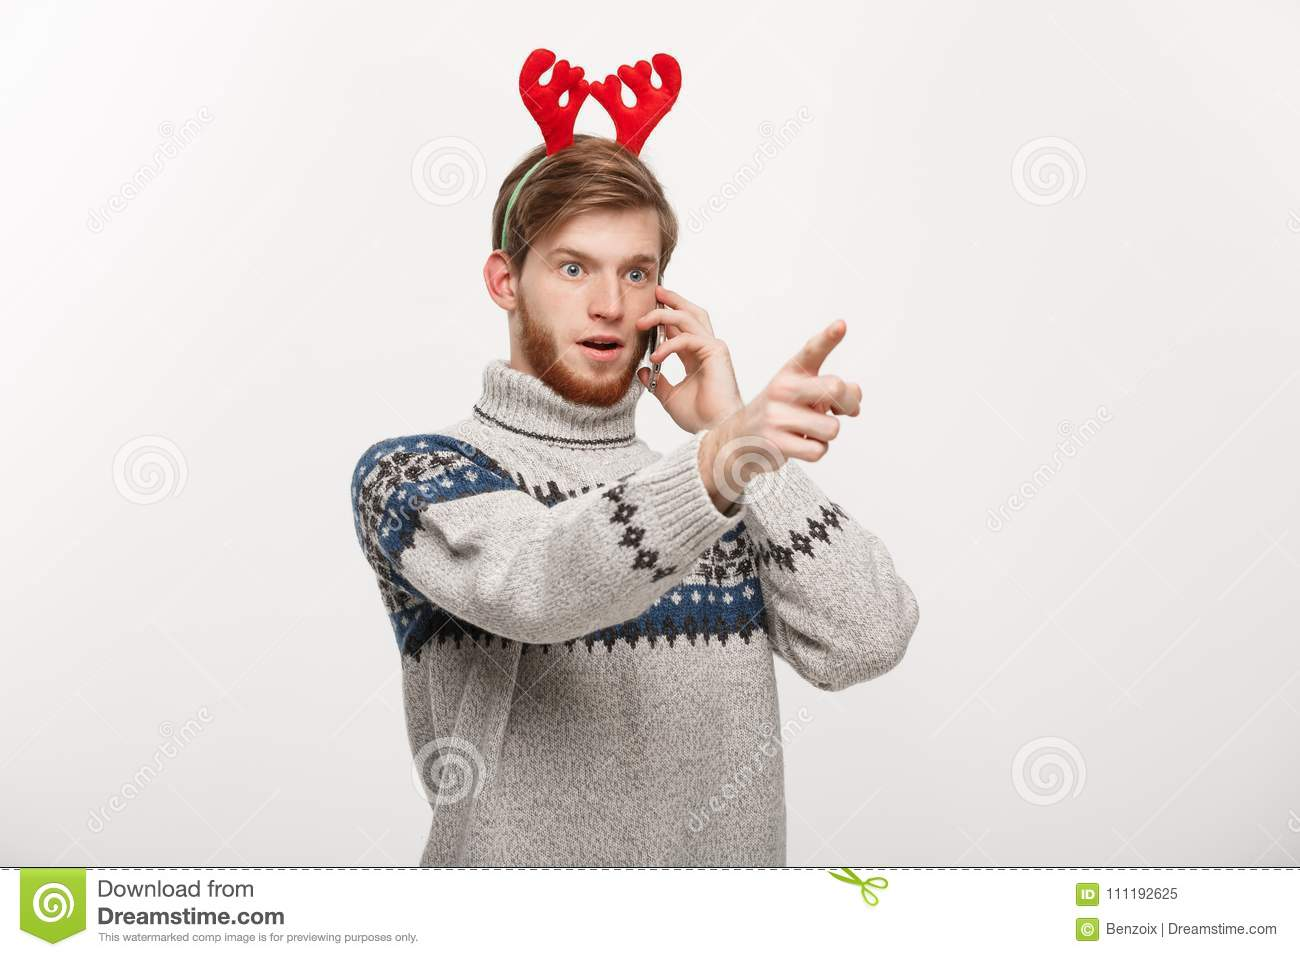phone: (645, 288, 670, 398)
talk: (536, 235, 735, 434)
